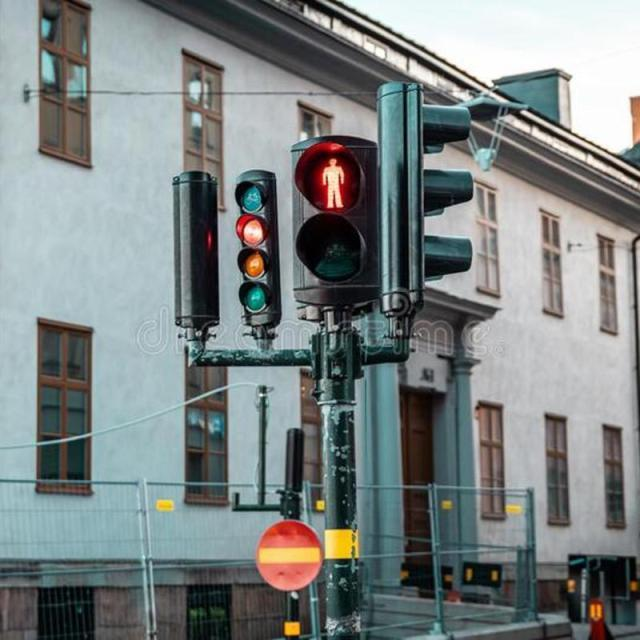red-crossing: (295, 144, 369, 211)
